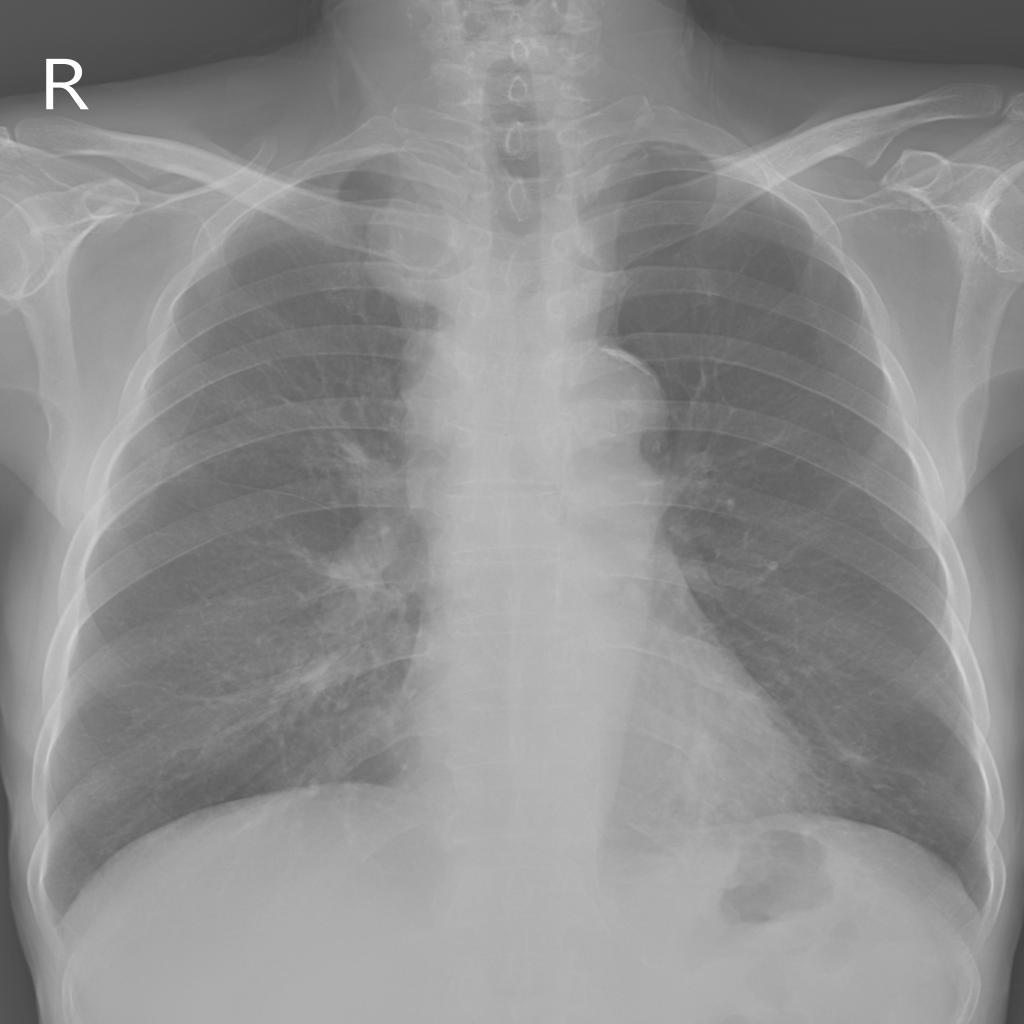Nodule: (362, 199, 467, 309)
